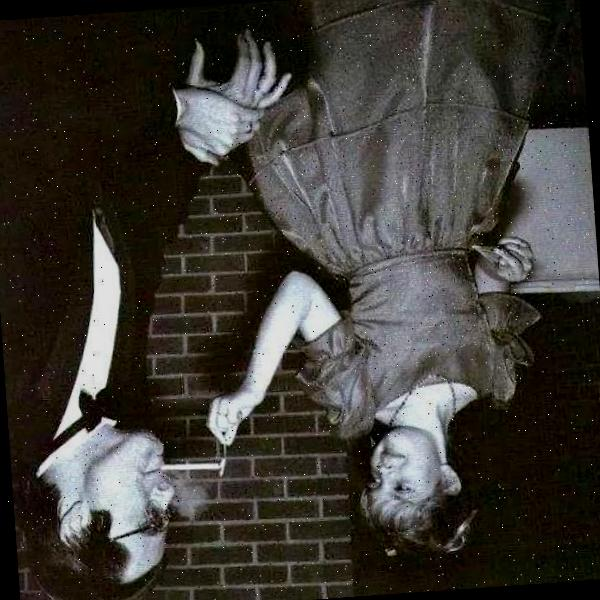smoke: (159, 469, 218, 520)
